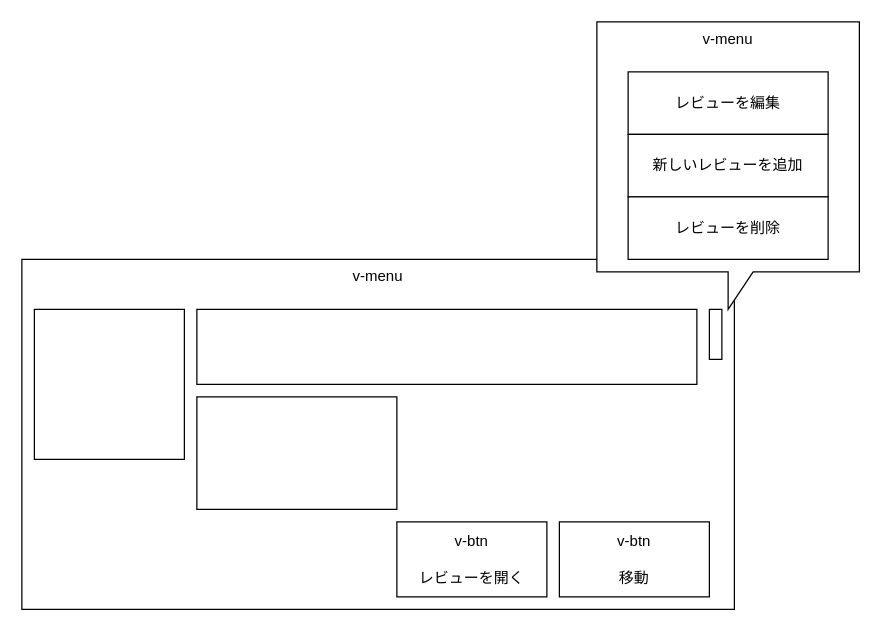
Some shapes in this 881 by 631 pixel diagram are drawn without their labels. The shapes that lost their labels are listed below. From the top down, each one's centre as x and y in pixels, then its label:
[446,346]: span Tierのタイトル
[108,383]: v-img アイコン
[296,452]: ReviewValueDisplay Tierの総合評価
